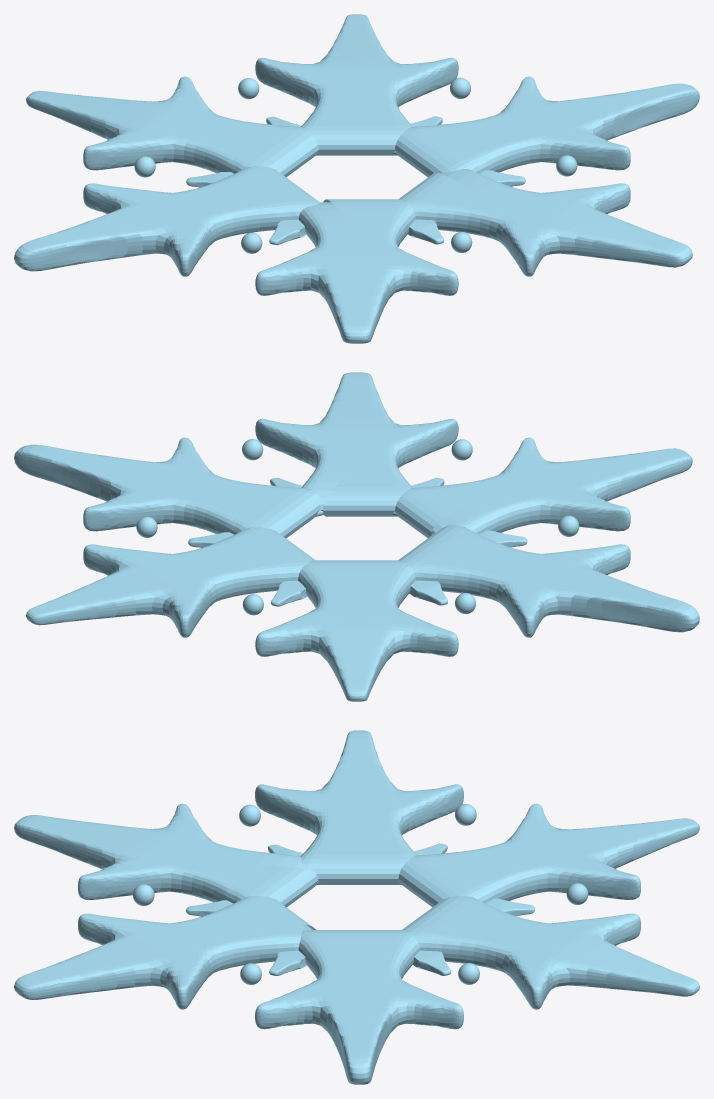
Rendered from snowflake.fbx.
3 views of the same model, one above another, from view 1: azimuth 30°, elevation 25°; view 2: azimuth 150°, elevation 25°; view 3: azimuth 270°, elevation 25° (orthographic). The views are drawn at different scales.
Visible parts, largest first — view 1: Plane; view 2: Plane; view 3: Plane.
Part boxes in pixels (x1,y1,x2,y2): Plane: (14, 14, 699, 343); Plane: (14, 372, 699, 701); Plane: (14, 730, 699, 1084).
Size of the model in its own units: 618 by 28.97 by 523.
